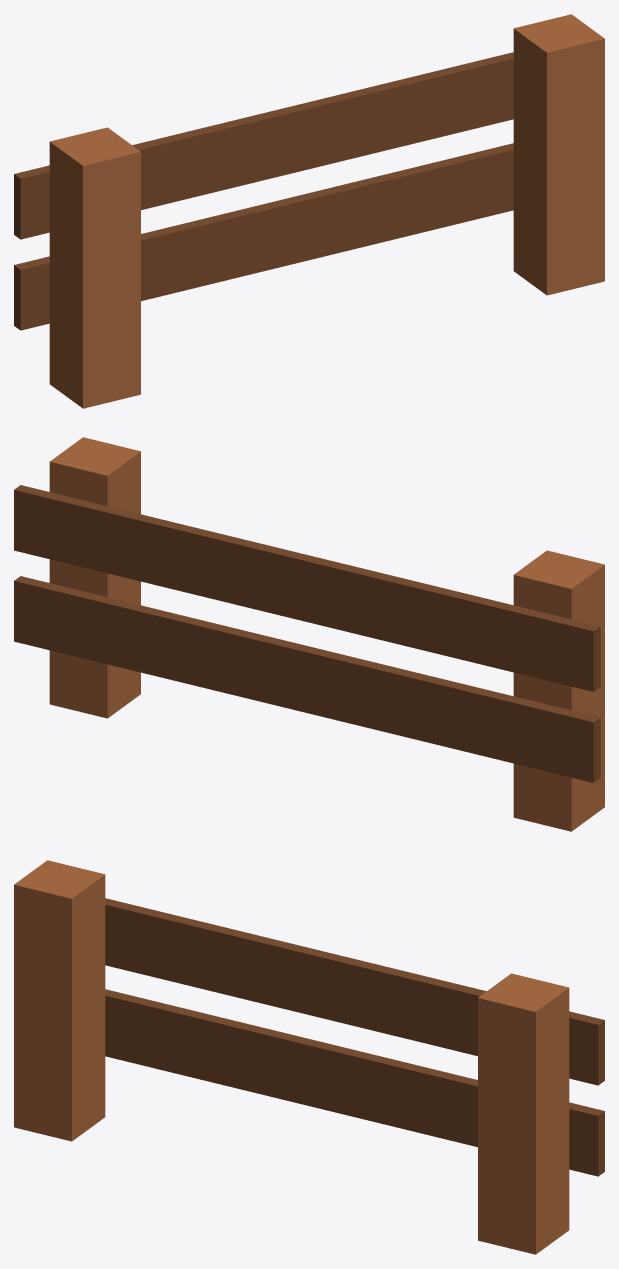
Rendered from fence.glb.
3 views of the same model, one above another, from view 1: azimuth 30°, elevation 25°; view 2: azimuth 150°, elevation 25°; view 3: azimuth 330°, elevation 25° (orthographic).
Visible parts, largest first — view 1: fence; view 2: fence; view 3: fence.
Boxes of the visible parts, <box> form: fence: <box>14,14,604,408</box>; fence: <box>14,437,604,831</box>; fence: <box>14,860,604,1254</box>.
Size of the model in its own units: 1 by 0.4 by 0.12.
